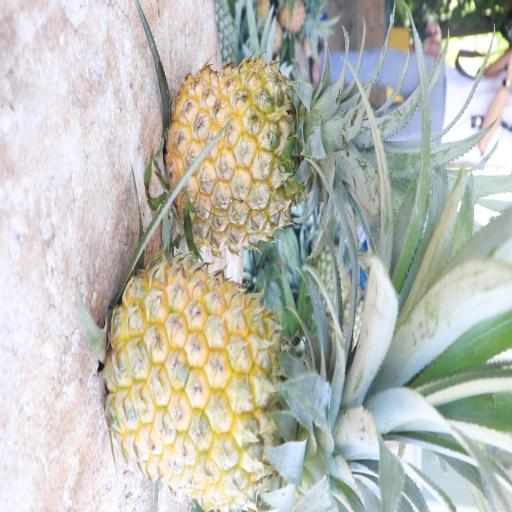Pineapple - v8 v1: (102, 254, 388, 499), (164, 52, 362, 261), (216, 154, 226, 158), (223, 112, 232, 112)
